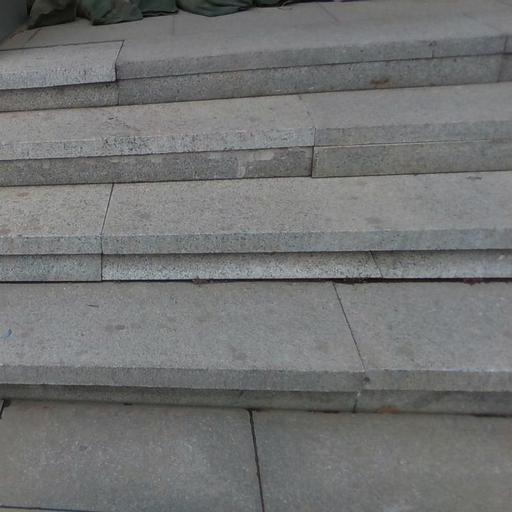stairs: (0, 0, 511, 511), (0, 281, 511, 414), (0, 402, 511, 511), (0, 171, 511, 280), (0, 82, 511, 185)
